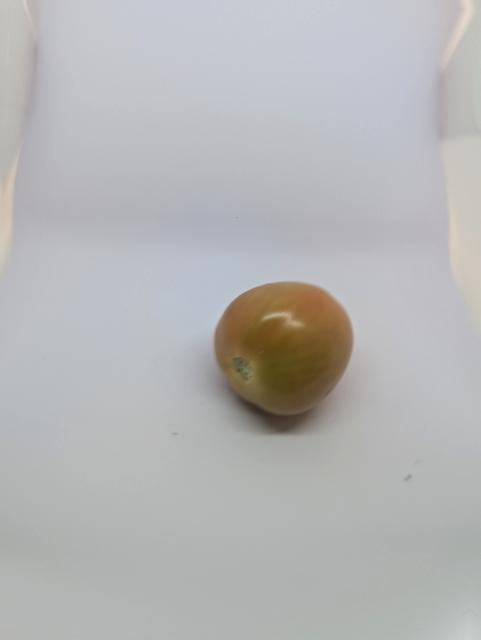turning: (205, 276, 363, 426)
